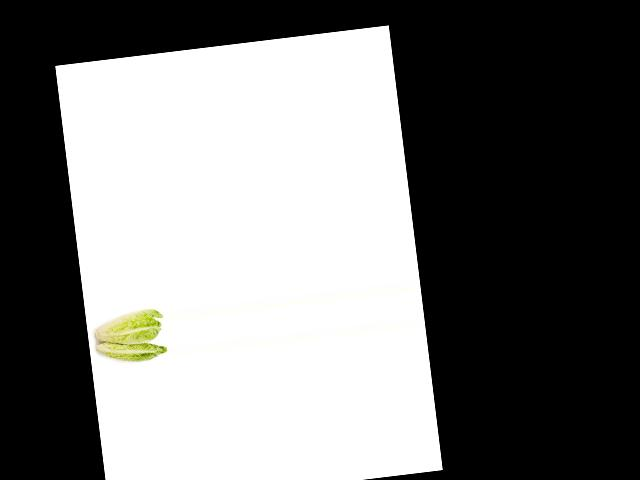lettuce: (90, 333, 169, 374)
